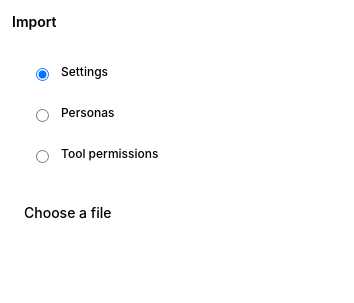
it: something that is not JSON is refused as broken, with the parser's reason
Click the button "Choose a file" at (68, 213), box [12,195,123,231]
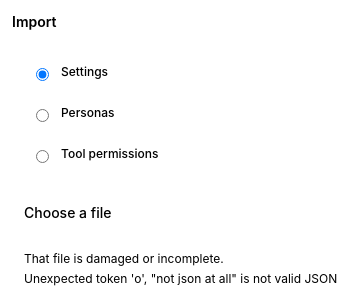
expect the message with test id "portable-import-rejection" shows "That file is damaged or incomplete.": met, box [24,251,224,266]
expect the message with test id "portable-import-rejection" shows "is not valid JSON": met, box [24,271,337,286]
